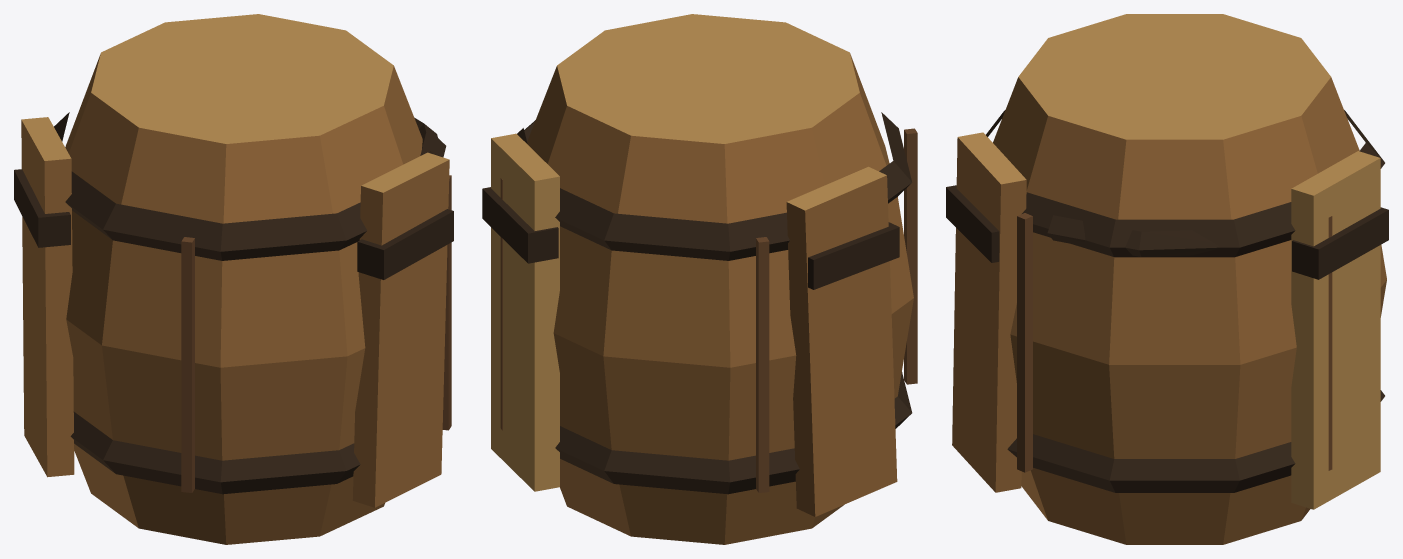
Rendered from tonneau.glb.
The picture shows the model from 3 angles, left to right: view 1: azimuth 30°, elevation 25°; view 2: azimuth 150°, elevation 25°; view 3: azimuth 270°, elevation 25°; orthographic projection.
Parts seen in each view (by area): view 1: corps.015, eclat_1.001, eclat_3.001; view 2: corps.015, eclat_3.001, eclat_2.001; view 3: corps.015, eclat_2.001, eclat_1.001, eclat_4.001.
Boxes of the visible parts, x1,y1,x2,y2 form: corps.015: (54, 14, 451, 544); eclat_1.001: (352, 152, 453, 507); eclat_3.001: (14, 117, 74, 477); corps.015: (500, 14, 917, 544); eclat_3.001: (786, 166, 899, 516); eclat_2.001: (482, 133, 559, 491); corps.015: (986, 14, 1386, 544); eclat_2.001: (1291, 151, 1388, 509); eclat_1.001: (946, 132, 1026, 492); eclat_4.001: (1047, 215, 1220, 256).
Bounding box in the file's own units: 0.7825 × 0.8 × 0.7926.
